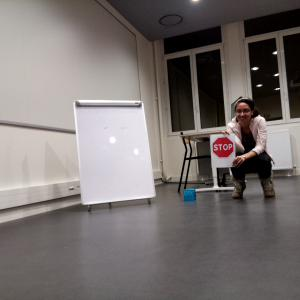stop: (212, 137, 234, 158)
